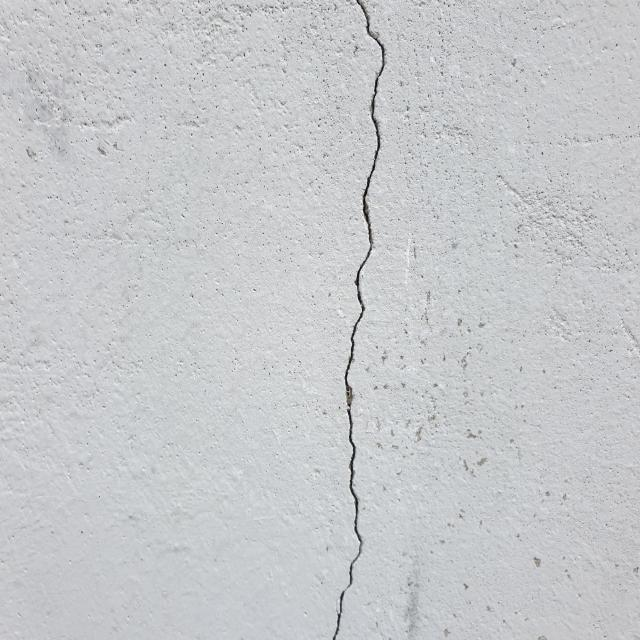SurfaceCrack: (288, 1, 420, 639)
